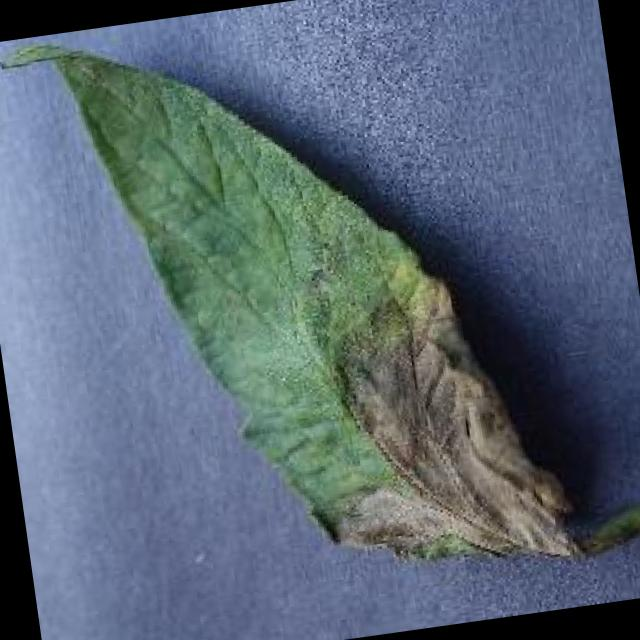Tomato_Late_Blight: (289, 248, 593, 598)
